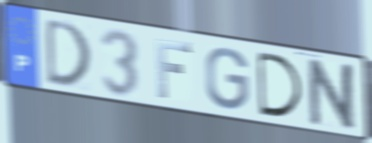3: (99, 26, 143, 101)
D: (254, 49, 306, 120), (44, 15, 93, 88)
F: (153, 36, 194, 101)
G: (204, 45, 251, 112)
N: (307, 57, 359, 134)
